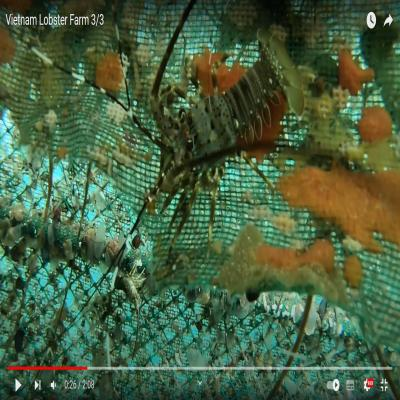lobster: (149, 45, 289, 218)
